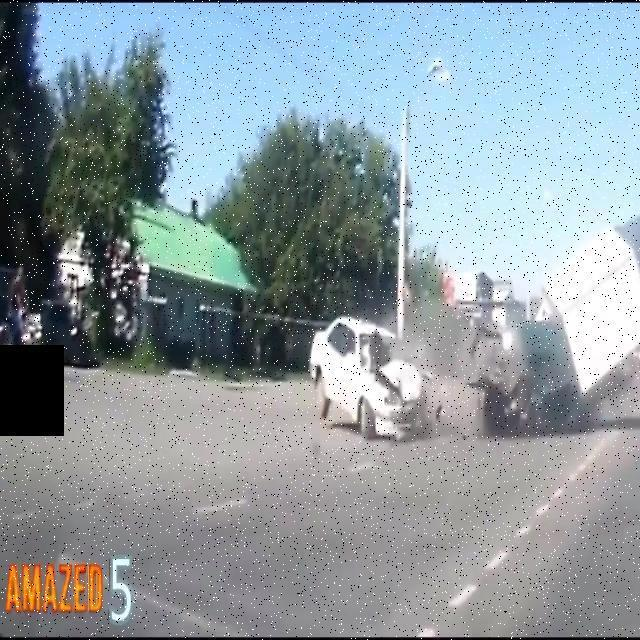multiple_accident: (285, 233, 619, 480)
